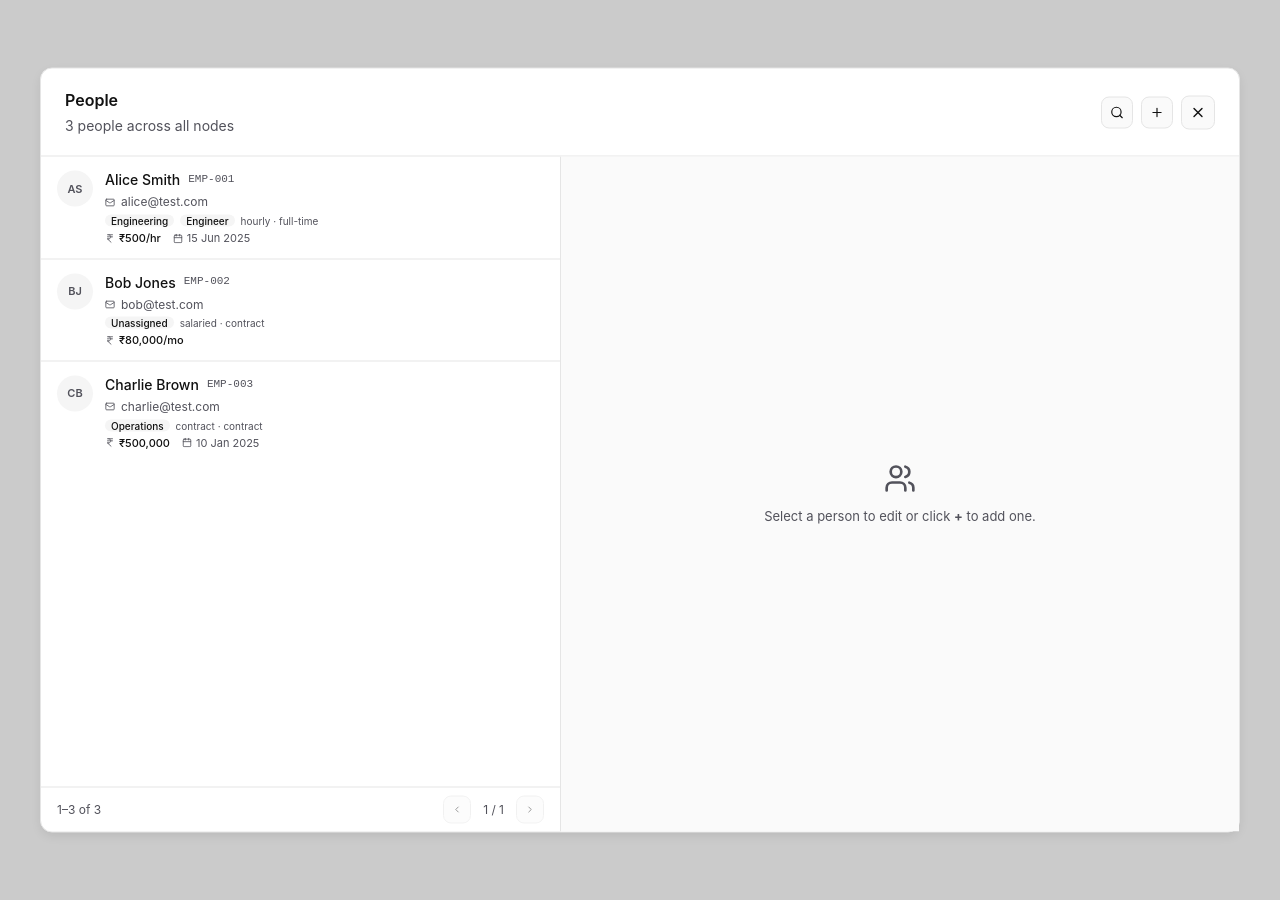
PeopleModal › clicking a person opens edit form in right panel
Click the text "Alice Smith": (143, 179) [105,169,180,190]
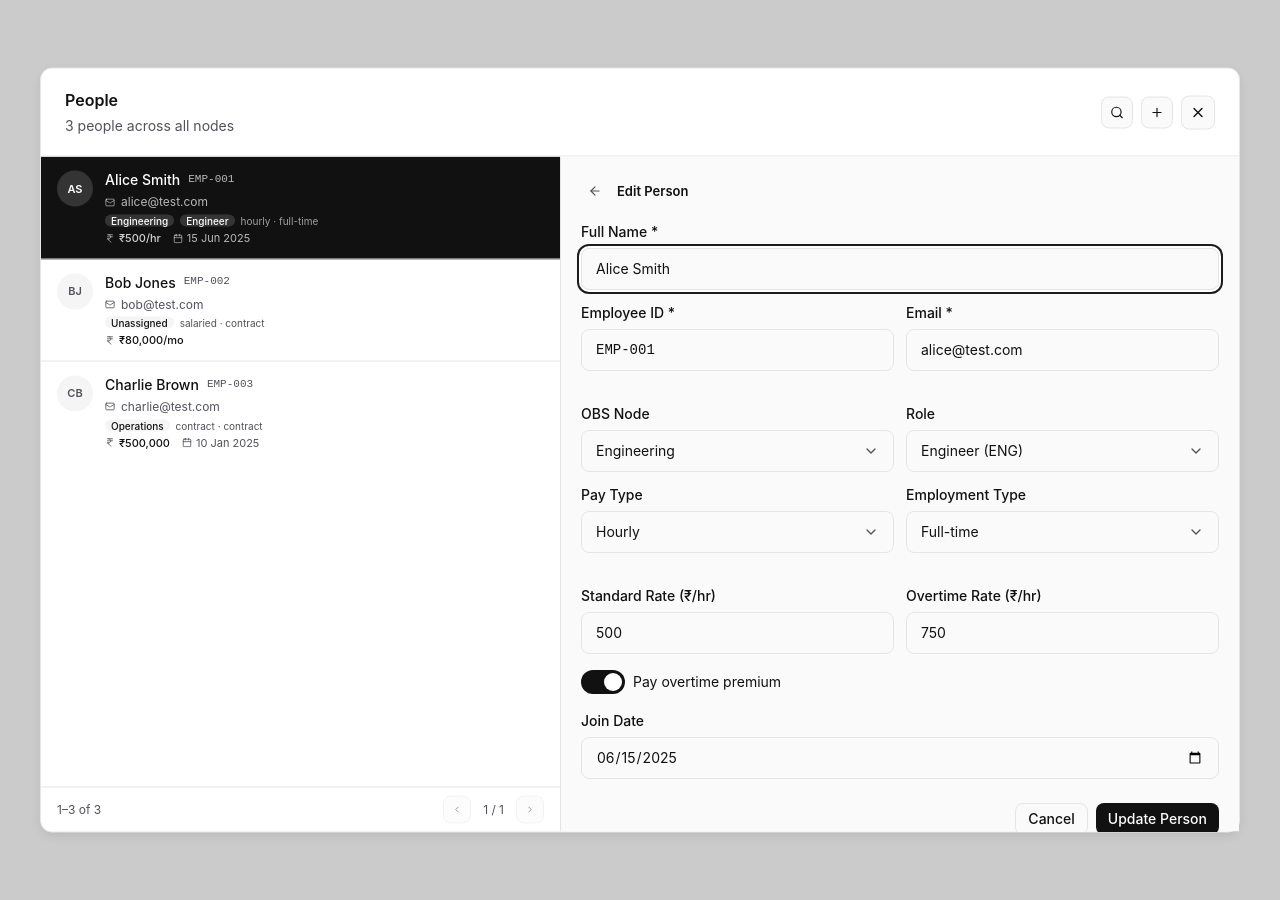
Now the heading "Edit Person" is shown, box [617,181,688,201]
